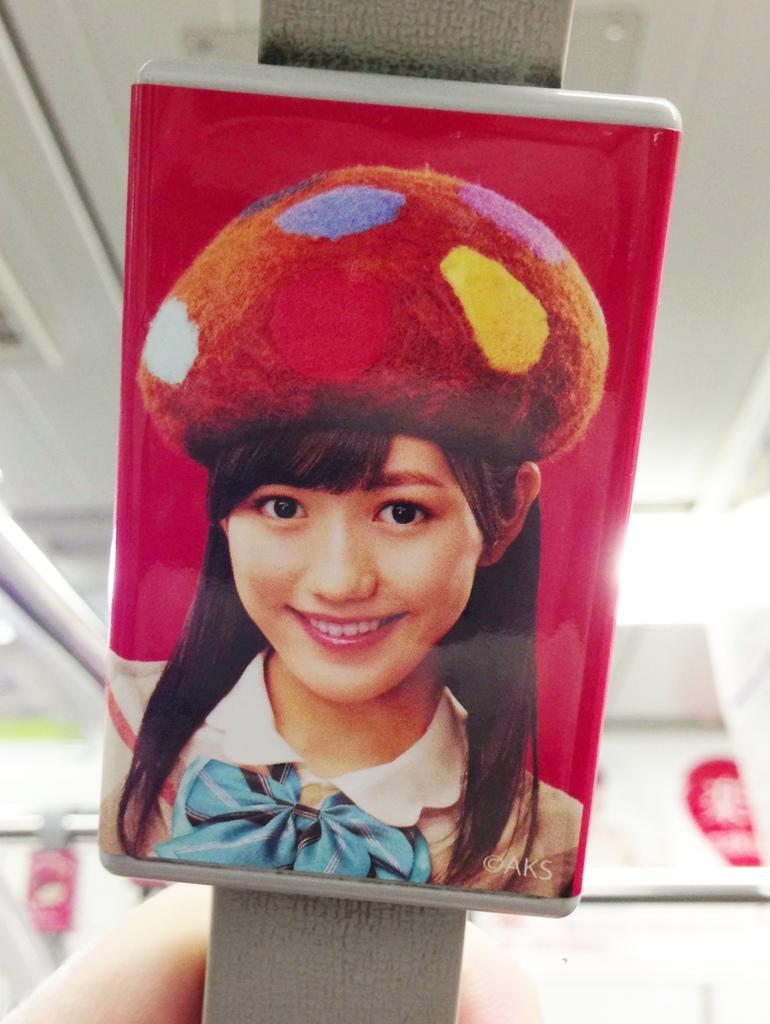Hat: (138, 162, 609, 464)
